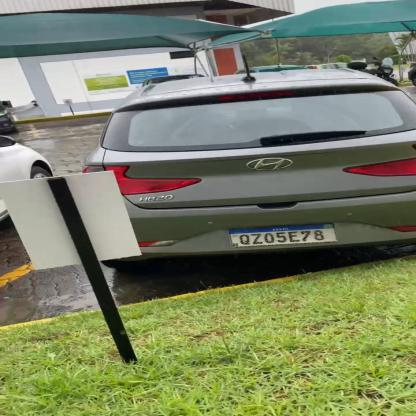Plate: (226, 223, 341, 247)
